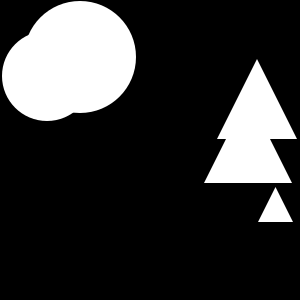rectangle: (24, 1, 136, 113), (2, 31, 92, 121)
triangle: (204, 95, 292, 183), (217, 59, 297, 139), (258, 187, 293, 222)
